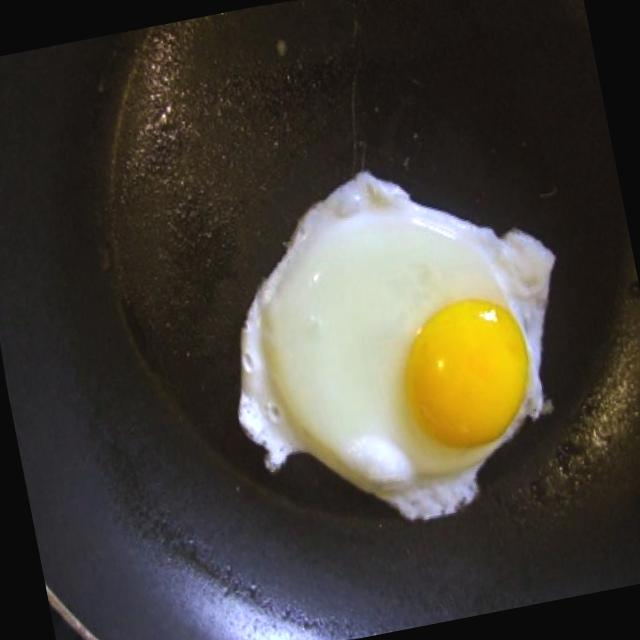Egg: (183, 125, 614, 575)
